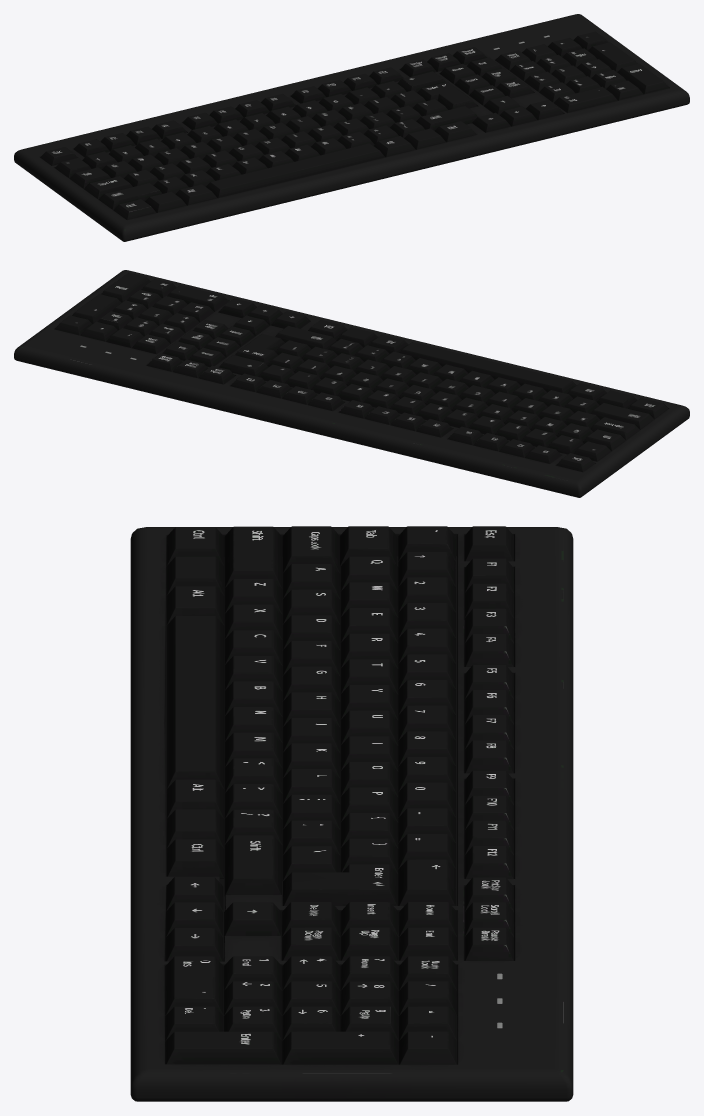
The model's file is keyboard.gltf.
3 renders of one model, top to bottom at view 1: azimuth 30°, elevation 25°; view 2: azimuth 150°, elevation 25°; view 3: azimuth 270°, elevation 25°, orthographic. The views are drawn at different scales.
Visible parts, largest first — view 1: SM_PCKeyboard01; view 2: SM_PCKeyboard01; view 3: SM_PCKeyboard01.
Boxes of the visible parts, left/top/right/bottom form: SM_PCKeyboard01: left=14, top=14, right=689, bottom=241; SM_PCKeyboard01: left=14, top=270, right=689, bottom=497; SM_PCKeyboard01: left=130, top=526, right=573, bottom=1101.
Bounding box in the file's own units: 0.43 × 0.0151 × 0.145.
1 material, 1 textured.
